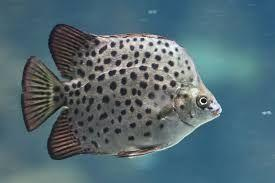Scat Fish: (20, 20, 225, 163)
